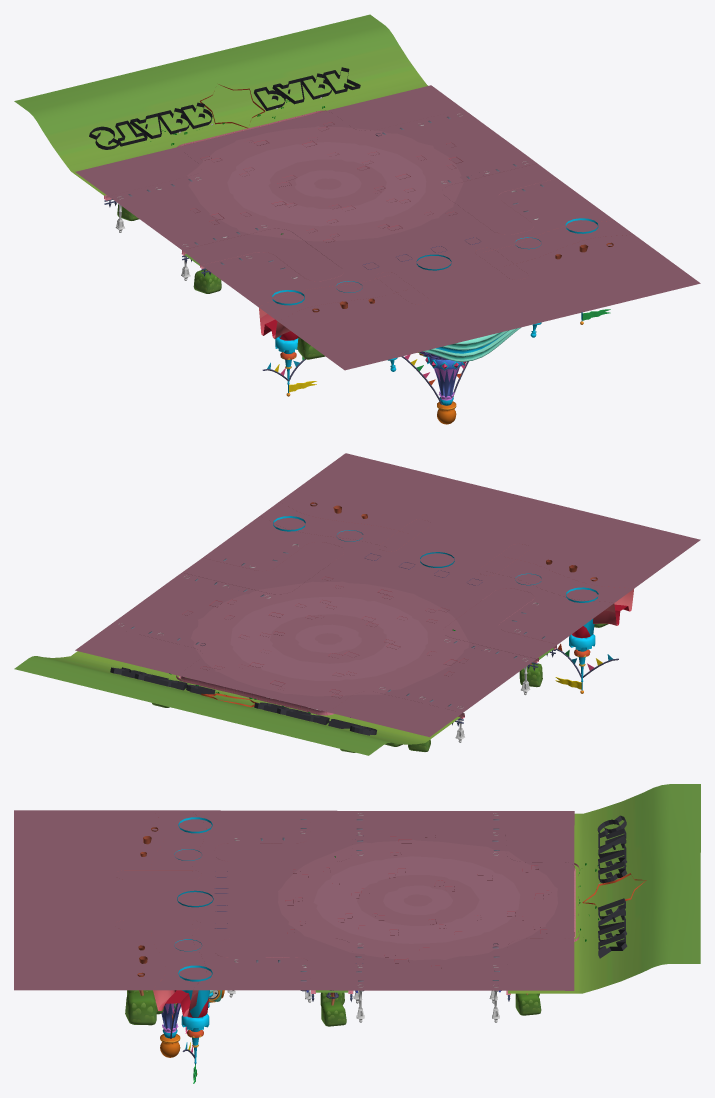
File: tutorial.fbx
3 views of the same model, one above another, from view 1: azimuth 30°, elevation 25°; view 2: azimuth 150°, elevation 25°; view 3: azimuth 270°, elevation 25° (orthographic). The views are drawn at different scales.
Visible parts, largest first — view 1: bgr_old_town_ground_003, bgr_old_town_ground_004, Text_004, BezierCurve_003, curb_011, Cylinder; view 2: bgr_old_town_ground_003, bgr_old_town_ground_004, Text_004, curb_011, curb_003, curb_006, bgr_old_town_ground; view 3: bgr_old_town_ground_003, bgr_old_town_ground_004, Text_004, curb_011, tree_left_022, curb_006, tree_left_005, tree_left_015, Cylinder.
Boxes of the visible parts, x1,y1,x2,y2 form: bgr_old_town_ground_003: (75, 85, 700, 370); bgr_old_town_ground_004: (14, 14, 427, 195); Text_004: (89, 67, 360, 149); BezierCurve_003: (387, 322, 541, 371); curb_011: (272, 218, 598, 396); Cylinder: (429, 357, 462, 405); bgr_old_town_ground_003: (75, 453, 700, 737); bgr_old_town_ground_004: (14, 651, 459, 755); Text_004: (110, 667, 376, 735); curb_011: (273, 516, 598, 693); curb_003: (176, 675, 464, 718); curb_006: (278, 502, 633, 625); bgr_old_town_ground: (182, 576, 468, 698); bgr_old_town_ground_003: (14, 810, 574, 990); bgr_old_town_ground_004: (508, 784, 700, 993); Text_004: (597, 815, 627, 958); curb_011: (174, 817, 212, 1074); tree_left_022: (125, 972, 156, 1025); curb_006: (151, 817, 206, 1016); tree_left_005: (321, 990, 346, 1026); tree_left_015: (515, 993, 541, 1015); Cylinder: (161, 1003, 180, 1038).
Bounding box in the file's own units: 4131 × 1958 × 6628.
9 materials, 9 textured.
